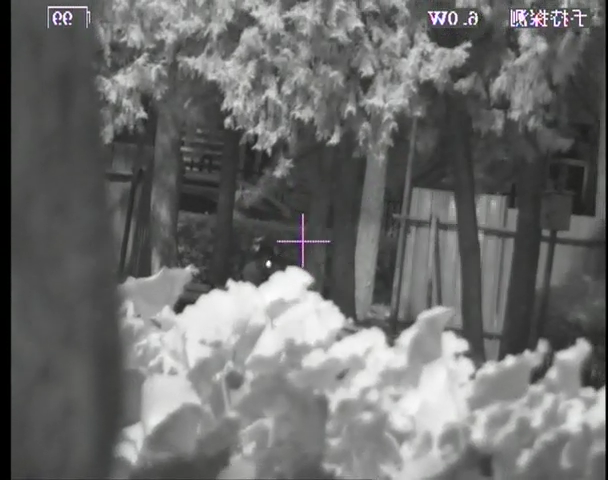my: (265, 259, 274, 270)
